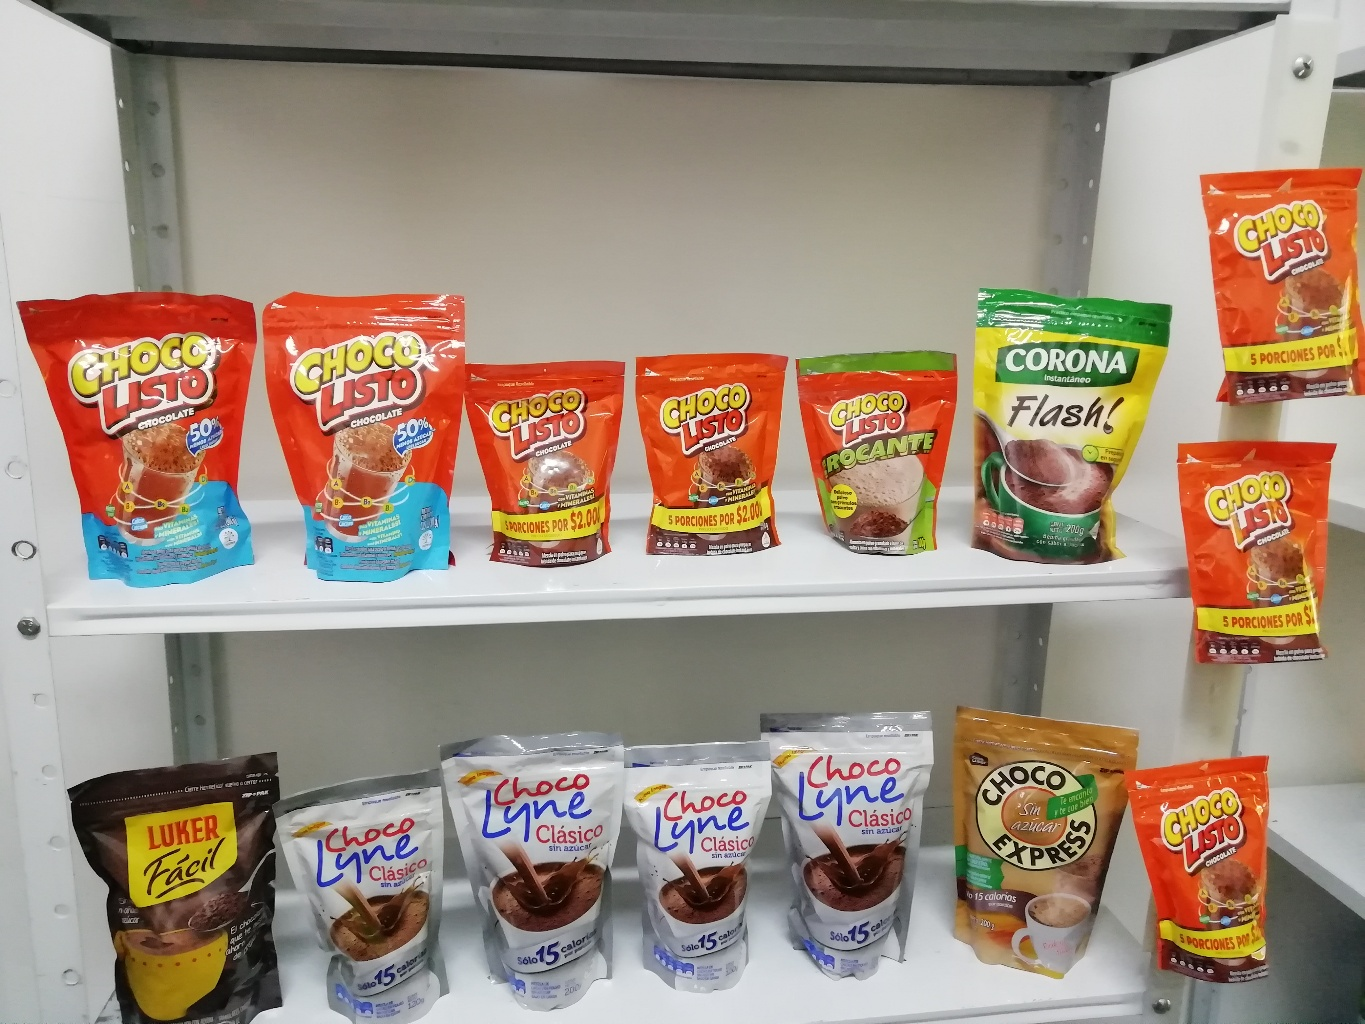COL0170102DYP10000: (792, 347, 959, 565)
COL0170104DYP20000: (241, 274, 481, 583)
